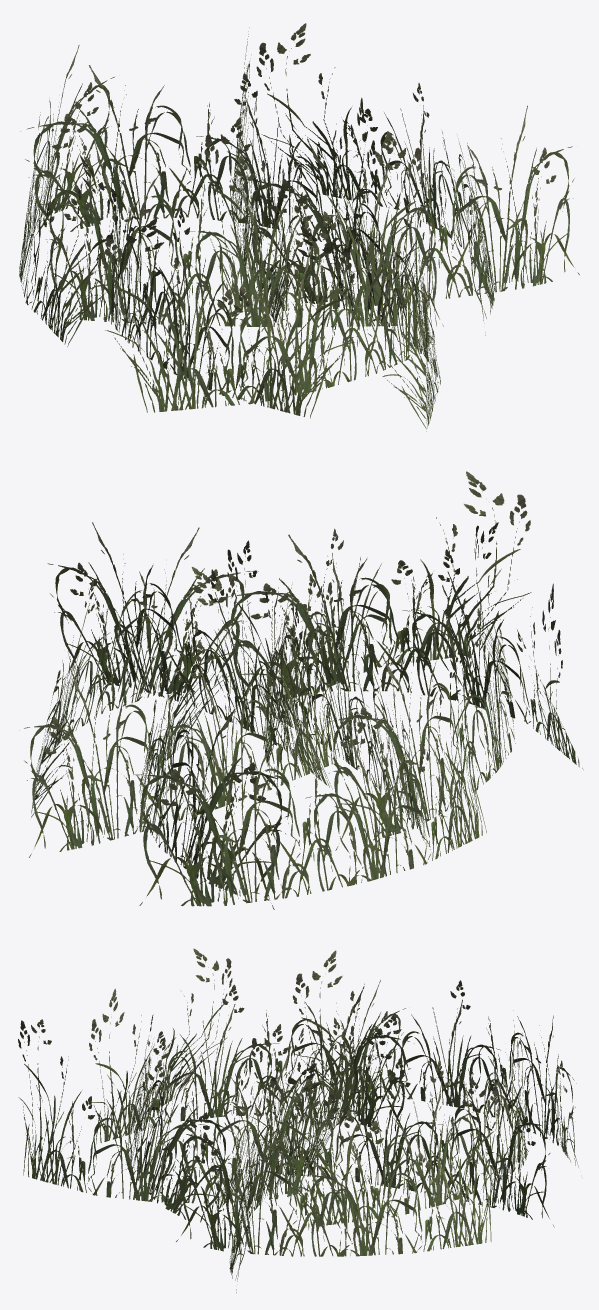
File: SM_Grass01.fbx
3 views of the same model, one above another, from view 1: azimuth 30°, elevation 25°; view 2: azimuth 150°, elevation 25°; view 3: azimuth 270°, elevation 25° (orthographic). The views are drawn at different scales.
Parts seen in each view (by area): view 1: Grass01_LOD0; view 2: Grass01_LOD0; view 3: Grass01_LOD0.
Boxes of the visible parts, x1,y1,x2,y2 form: Grass01_LOD0: (19, 23, 579, 431); Grass01_LOD0: (19, 471, 583, 909); Grass01_LOD0: (18, 948, 578, 1292).
Size of what is drawn, in the model's own units: 428 by 369 by 141.
